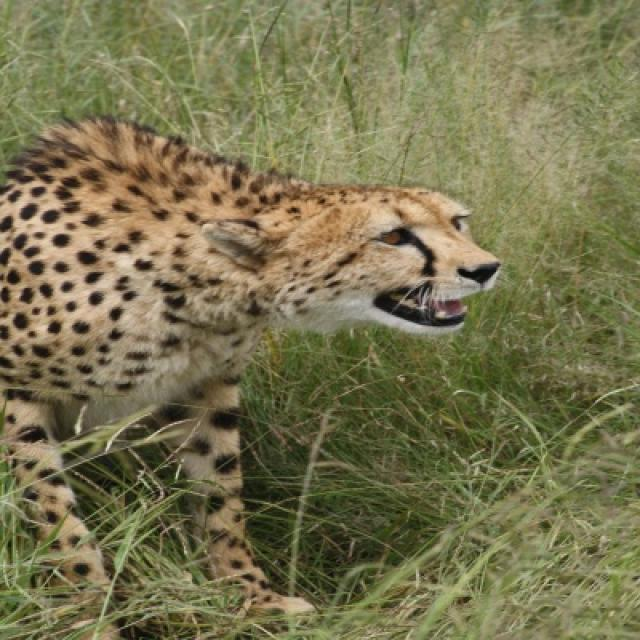Cheetah: (0, 118, 499, 613)
